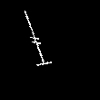treble_crochet: (25, 12, 51, 65)
